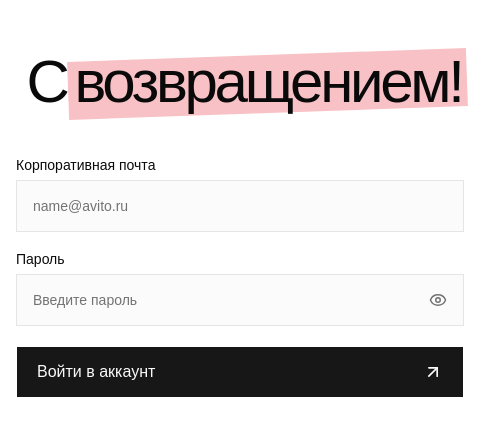
Test: JWT authentication and protected routes › shows the login error for intern@avito.ru / wrong
Type "intern@avito.ru" into the field labelled "Корпоративная почта" at (240, 206), box [16,180,464,232]
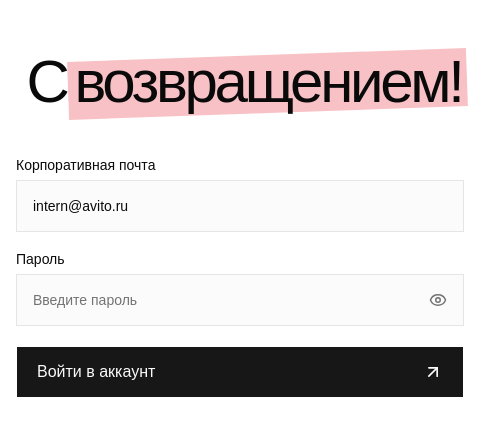
Type "wrong" into the password field labelled "Пароль" at (240, 300), box [16,274,464,326]
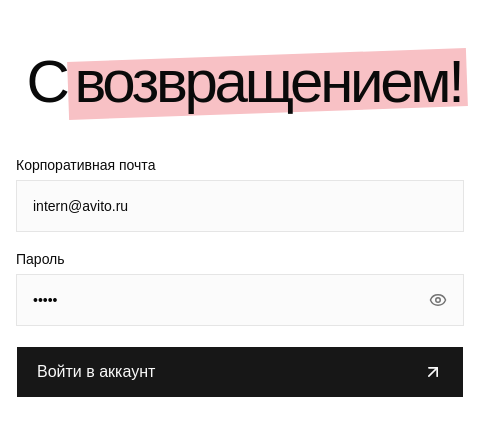
Click the button "Войти в аккаунт" at (96, 372), box [16,346,464,398]
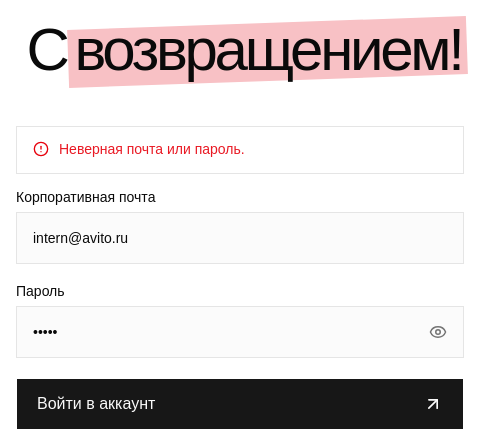
Check: the button "Войти в аккаунт" is enabled, box [16,378,464,430]
Check: the message shows "Неверная почта или пароль", box [59,141,245,157]
